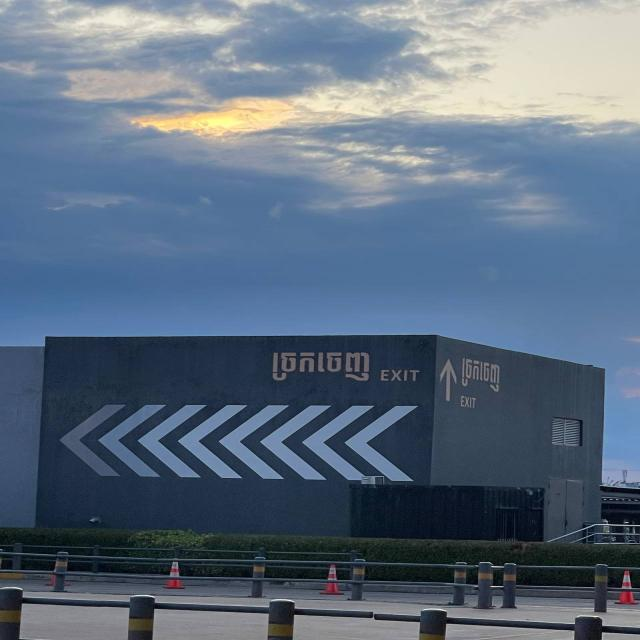Yolov11kh: (268, 346, 372, 382), (457, 354, 505, 393)
